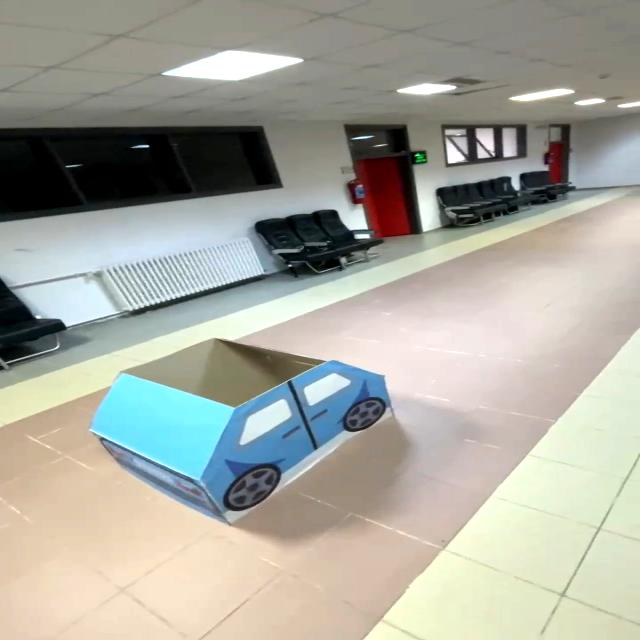blue_car: (53, 320, 434, 539)
